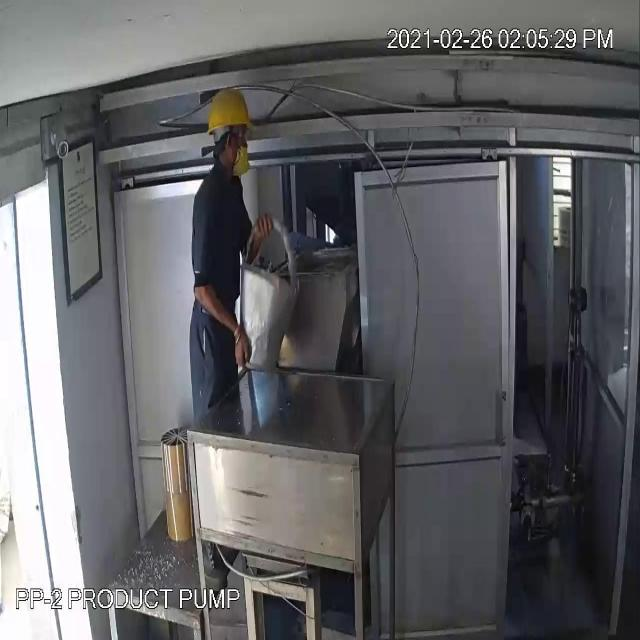helmet: (201, 85, 261, 159)
